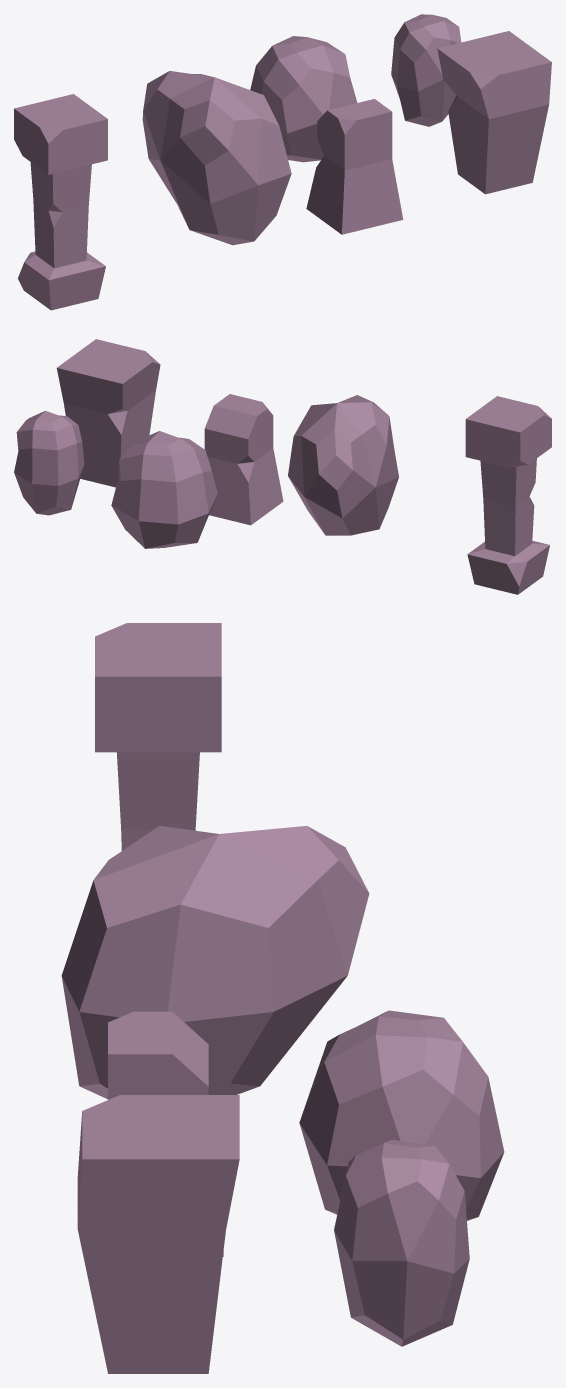
Rendered from Rocks.fbx.
The picture shows the model from 3 angles, top to bottom: view 1: azimuth 30°, elevation 25°; view 2: azimuth 150°, elevation 25°; view 3: azimuth 270°, elevation 25°; orthographic projection. The views are drawn at different scales.
Visible parts, largest first — view 1: Rock2, Pillar3, Pillar1, Pillar2, Rock1, Rock0; view 2: Pillar3, Rock2, Pillar1, Rock1, Pillar2, Rock0; view 3: Rock2, Pillar1, Rock1, Pillar3, Rock0, Pillar2.
Part boxes in pixels (box(x1,y1,x2,y2)): Rock2: box(142, 71, 291, 245); Pillar3: box(14, 94, 107, 310); Pillar1: box(437, 31, 551, 194); Pillar2: box(306, 99, 403, 234); Rock1: box(250, 36, 357, 162); Rock0: box(391, 14, 461, 126); Pillar3: box(465, 396, 551, 594); Rock2: box(288, 395, 398, 535); Pillar1: box(56, 339, 160, 487); Rock1: box(111, 431, 217, 548); Pillar2: box(204, 394, 283, 525); Rock0: box(14, 410, 84, 515); Rock2: box(61, 826, 369, 1099); Pillar1: box(77, 1095, 239, 1373); Rock1: box(299, 1010, 504, 1220); Pillar3: box(95, 623, 221, 850); Rock0: box(334, 1139, 469, 1346); Pillar2: box(108, 1011, 223, 1256).
Bounding box in the file's own units: 16.75 × 5.79 × 6.99.
Materials: 1 (1 with a texture image).
